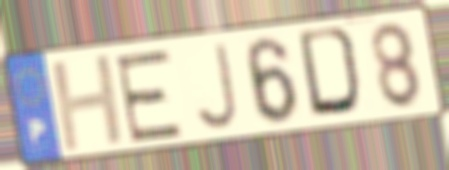6: (243, 33, 303, 128)
8: (368, 19, 424, 112)
D: (295, 24, 368, 120)
E: (112, 46, 186, 146)
H: (48, 50, 129, 156)
J: (191, 40, 241, 134)
